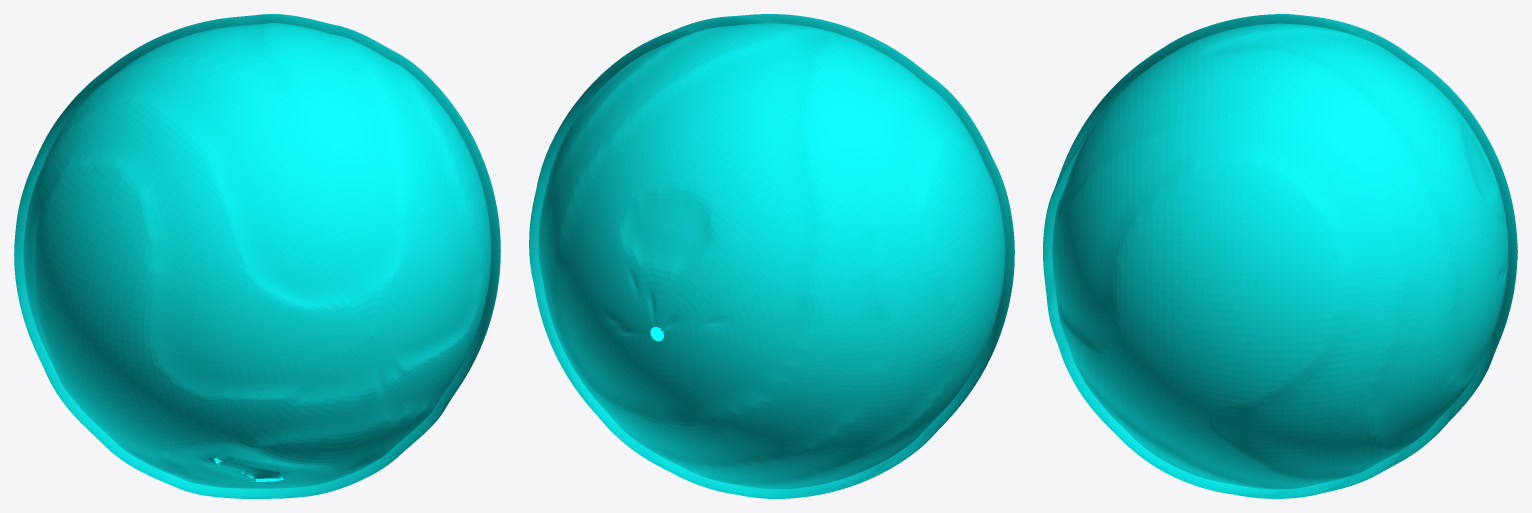
3 renders of one model, left to right at view 1: azimuth 30°, elevation 25°; view 2: azimuth 150°, elevation 25°; view 3: azimuth 270°, elevation 25°, orthographic.
Parts seen in each view (by area): view 1: Renderer Node; view 2: Renderer Node; view 3: Renderer Node.
Boxes of the visible parts, x1,y1,x2,y2 form: Renderer Node: (14,14,500,498); Renderer Node: (529,14,1014,498); Renderer Node: (1043,14,1517,498).
Bounding box in the file's own units: 4.86e+14 × 4.84e+14 × 4.72e+14.
